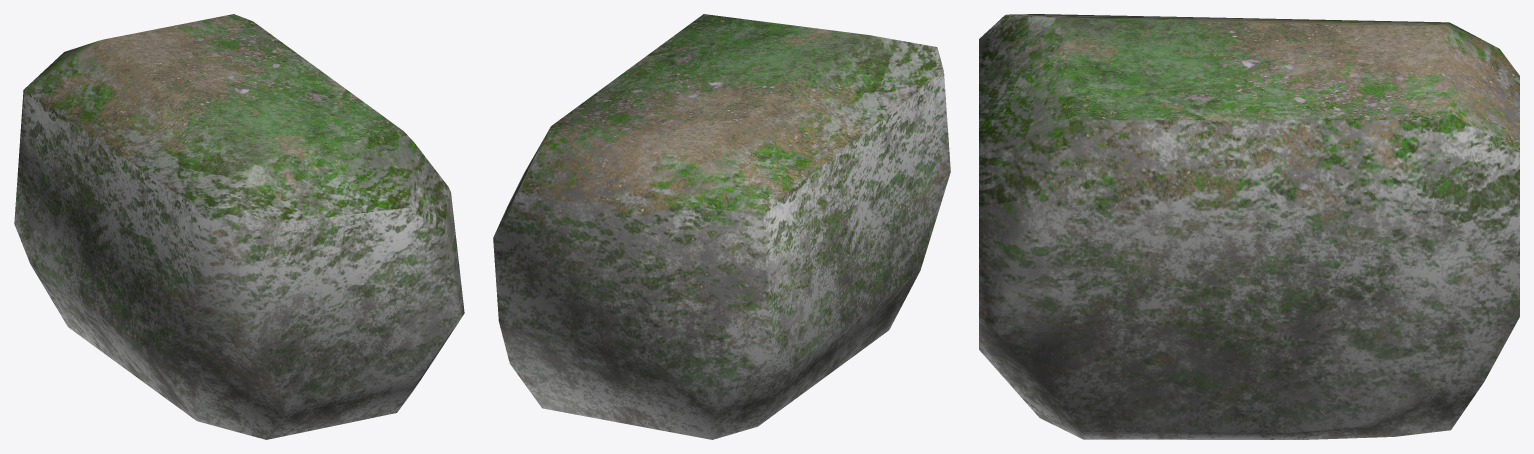
Rendered from Stone2.fbx.
The picture shows the model from 3 angles, left to right: view 1: azimuth 30°, elevation 25°; view 2: azimuth 150°, elevation 25°; view 3: azimuth 270°, elevation 25°; orthographic projection. The views are drawn at different scales.
Visible parts, largest first — view 1: Stone2_LOD0; view 2: Stone2_LOD0; view 3: Stone2_LOD0.
Boxes of the visible parts, <box> form: Stone2_LOD0: <box>14,14,464,439</box>; Stone2_LOD0: <box>493,14,950,439</box>; Stone2_LOD0: <box>979,14,1519,439</box>.
Bounding box in the file's own units: 22.16 × 33.7 × 22.46.
1 material, 1 textured.
